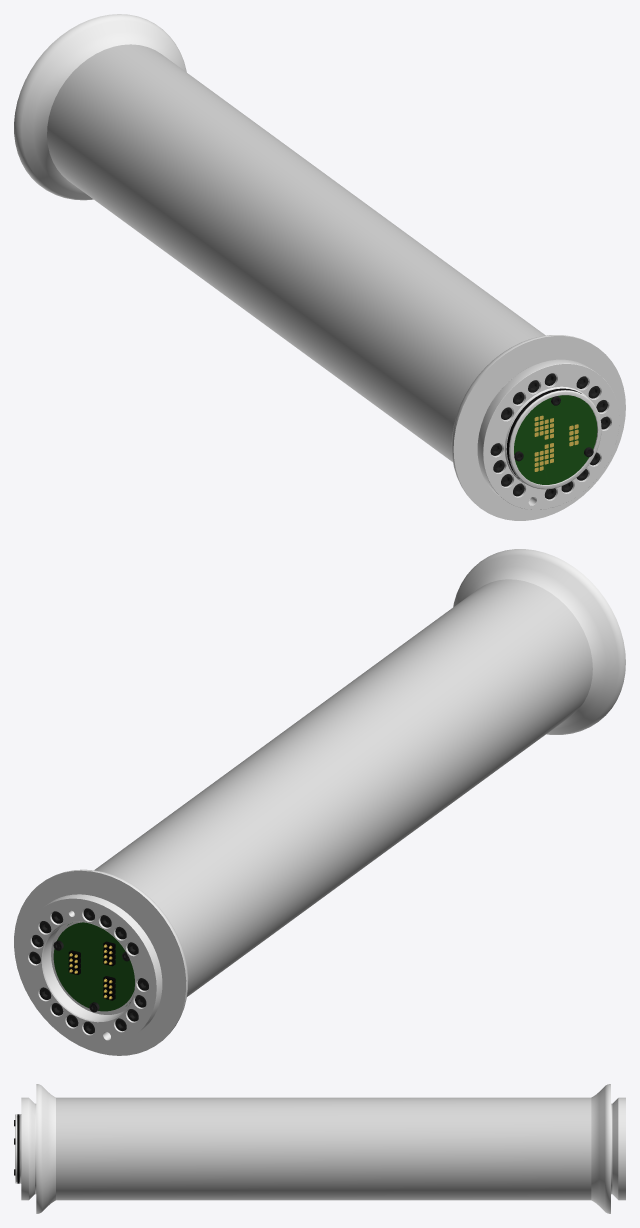
3 renders of one model, top to bottom at view 1: azimuth 30°, elevation 25°; view 2: azimuth 150°, elevation 25°; view 3: azimuth 270°, elevation 25°, orthographic. The views are drawn at different scales.
Visible parts, largest first — view 1: I86.001; view 2: I86.001; view 3: I86.001.
Boxes of the visible parts, <box> form: I86.001: <box>14,14,625,520</box>; I86.001: <box>14,549,625,1055</box>; I86.001: <box>14,1084,625,1213</box>.
Size of the model in its own units: 0.086 by 0.086 by 0.4048.
